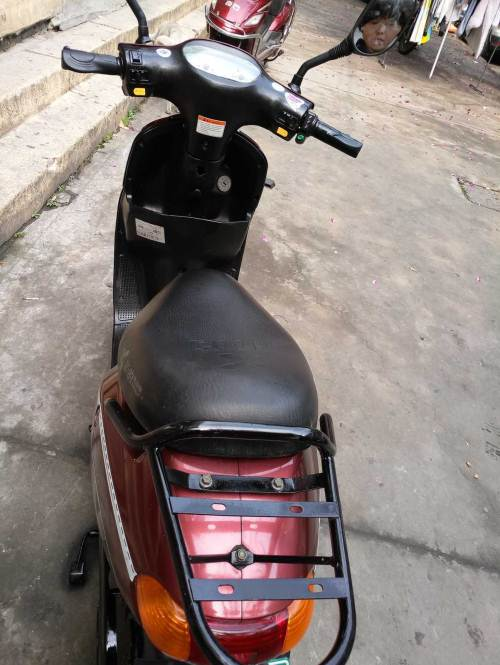电动车: (61, 1, 383, 661)
